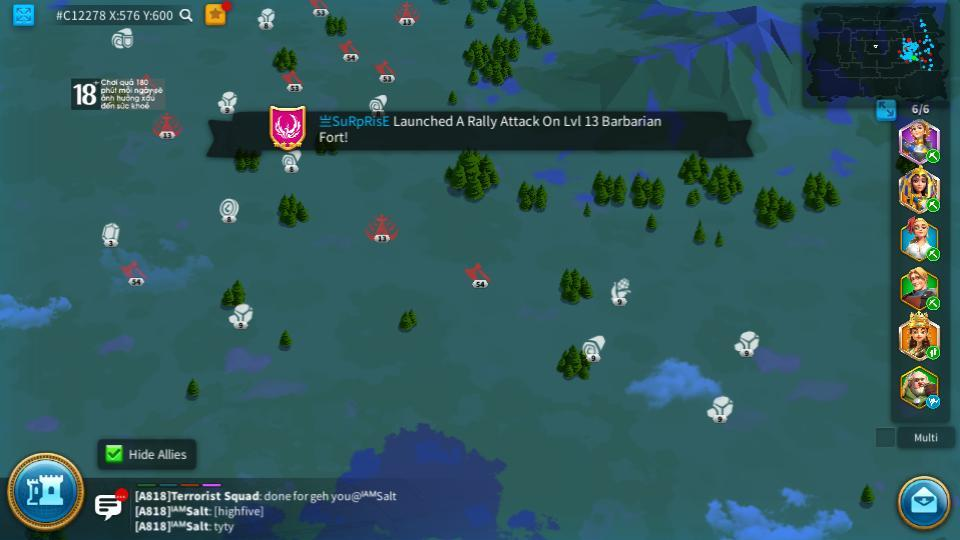gem-z-out: (101, 223, 121, 245)
march_idle: (925, 396, 942, 408)
march_marching: (925, 197, 941, 212), (925, 345, 941, 359), (925, 150, 942, 162), (925, 297, 942, 308)
